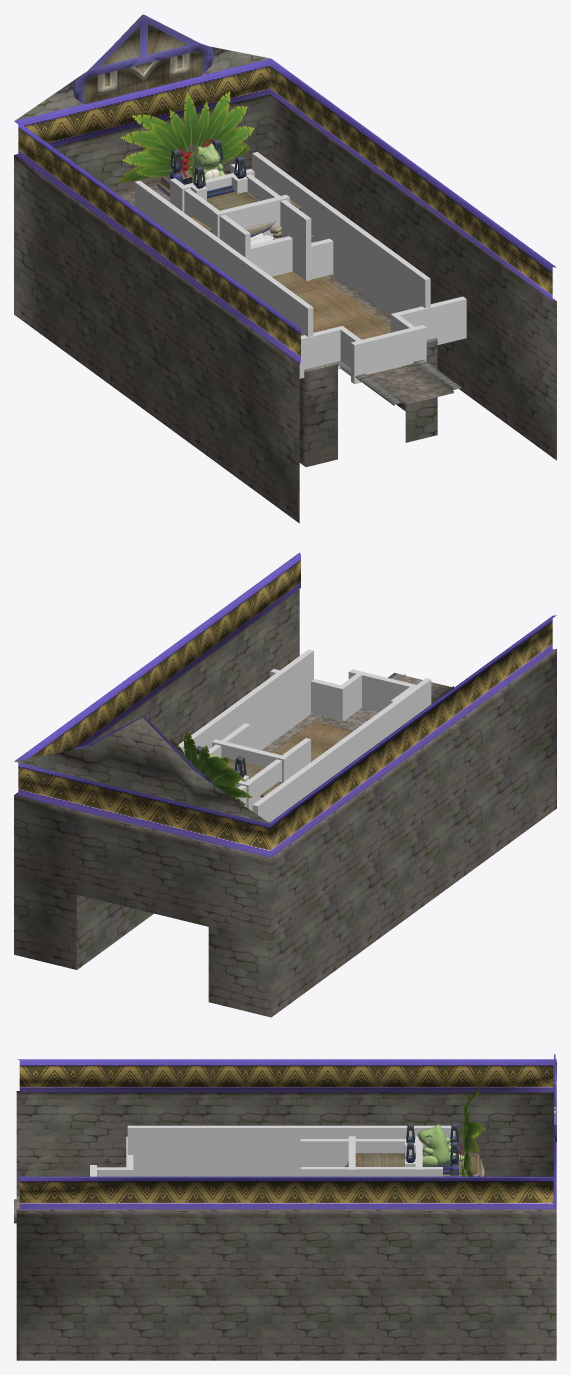
Rendered from CvTrial.glb.
3 renders of one model, top to bottom at view 1: azimuth 30°, elevation 25°; view 2: azimuth 150°, elevation 25°; view 3: azimuth 270°, elevation 25°, orthographic. The views are drawn at different scales.
Parts seen in each view (by area): view 1: Scene, COLL_All7, COLL_All6, COLL_All1, COLL_All15, COLL_All2, COLL_All16, COLL_All11, COLL_All3, COLL_All8, COLL_All9, COLL_All12; view 2: Scene, COLL_All7, COLL_All6, COLL_All16, COLL_All1, COLL_All2, COLL_All11, COLL_All4, COLL_All15; view 3: Scene, COLL_All6, COLL_All16, COLL_All15.
Part boxes in pixels (bbox=[...]): Scene: bbox=[14, 14, 556, 523]; COLL_All7: bbox=[252, 152, 430, 315]; COLL_All6: bbox=[134, 180, 313, 336]; COLL_All1: bbox=[351, 325, 426, 384]; COLL_All15: bbox=[230, 163, 311, 280]; COLL_All2: bbox=[390, 296, 466, 344]; COLL_All16: bbox=[170, 178, 250, 260]; COLL_All11: bbox=[214, 194, 289, 238]; COLL_All3: bbox=[299, 326, 345, 378]; COLL_All8: bbox=[250, 236, 292, 276]; COLL_All9: bbox=[311, 238, 333, 279]; COLL_All12: bbox=[178, 168, 254, 212]; Scene: bbox=[14, 552, 556, 1017]; COLL_All7: bbox=[177, 649, 313, 756]; COLL_All6: bbox=[252, 678, 431, 822]; COLL_All16: bbox=[236, 738, 310, 810]; COLL_All1: bbox=[348, 669, 415, 711]; COLL_All2: bbox=[270, 669, 345, 721]; COLL_All11: bbox=[212, 739, 287, 782]; COLL_All4: bbox=[339, 673, 361, 720]; COLL_All15: bbox=[207, 723, 250, 758]; Scene: bbox=[14, 1054, 556, 1360]; COLL_All6: bbox=[127, 1125, 455, 1176]; COLL_All16: bbox=[300, 1139, 424, 1166]; COLL_All15: bbox=[300, 1167, 442, 1176].
Size of the model in its own units: 30.39 by 30.45 by 58.73.
Materials: 12 (12 with a texture image).
